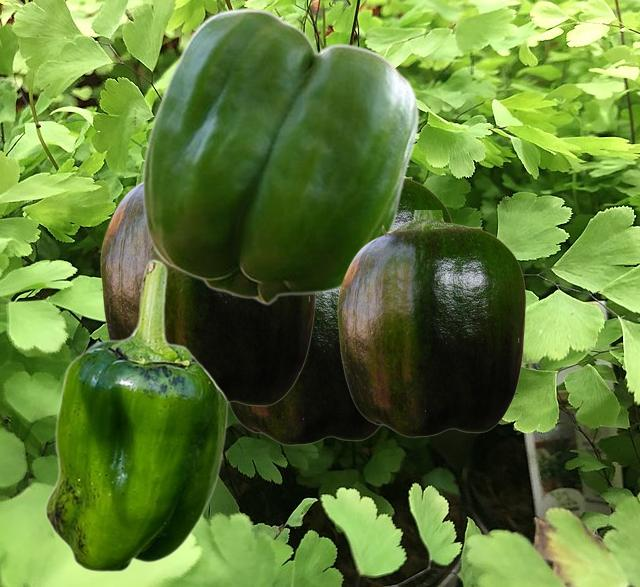bell_pepper: (141, 7, 418, 304), (44, 258, 227, 572), (100, 182, 316, 406), (337, 210, 525, 436), (228, 291, 381, 444), (394, 176, 452, 228)
